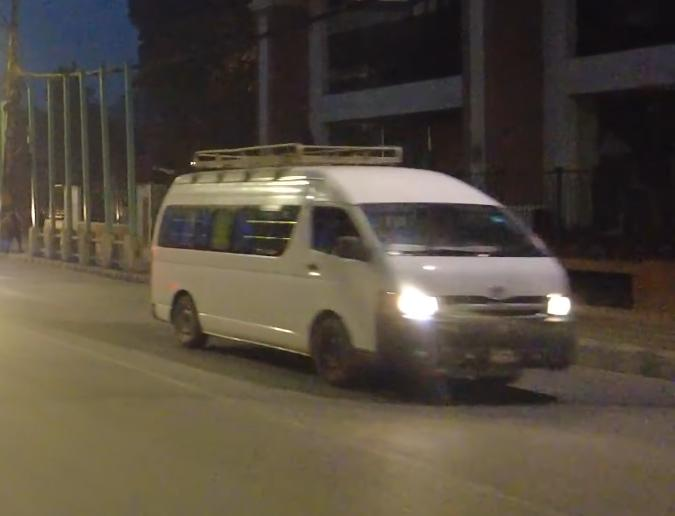micro_bus: (145, 153, 584, 392)
